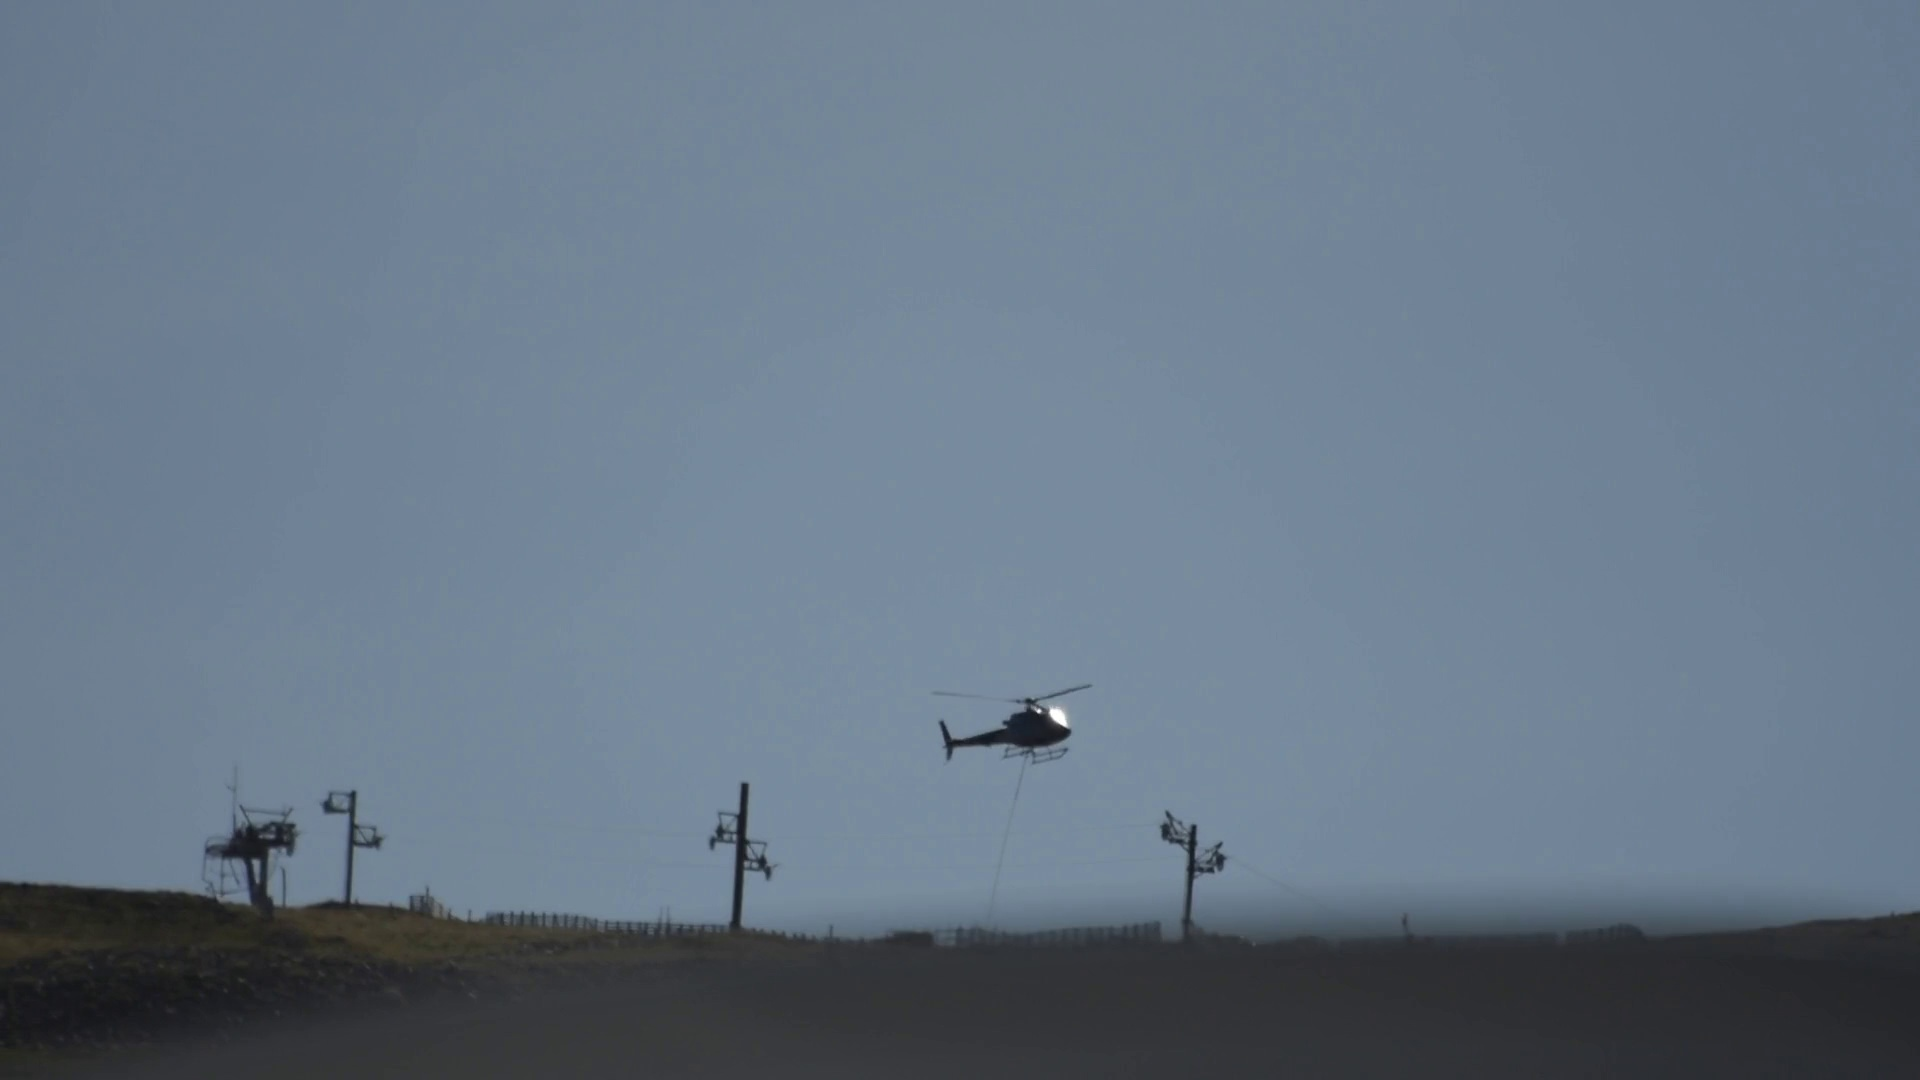heli: (934, 684, 1091, 764)
